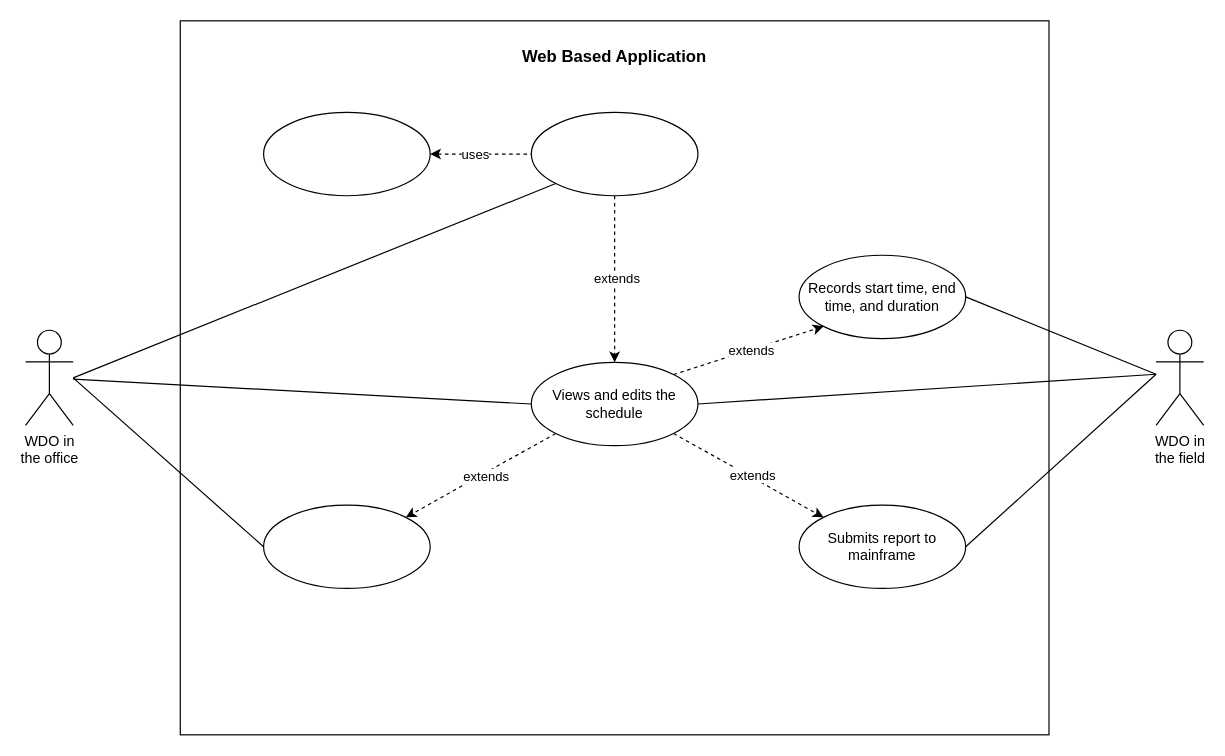
The diagram is 1225 pixels wide and 756 high, and some of its shapes have lost their labels. Each missing label, with the centre of its shape:
"Logs in to website" belongs at point 614,153.
"Schedules water requests in his area for the day" belongs at point 346,546.
"User Authentication" belongs at point 346,153.
